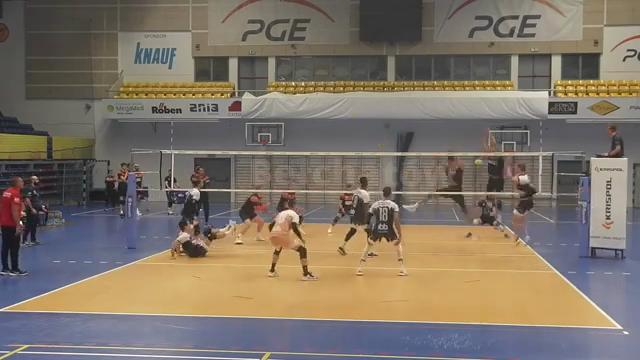Attack: (500, 158, 539, 252)
Block: (473, 127, 507, 224)
Player: (356, 187, 407, 275), (268, 200, 317, 280), (337, 176, 369, 254), (171, 219, 234, 258), (234, 192, 265, 244), (403, 194, 469, 218), (328, 184, 353, 234), (473, 196, 503, 230), (181, 181, 200, 223), (276, 192, 296, 212)
ball: (473, 156, 483, 167)
